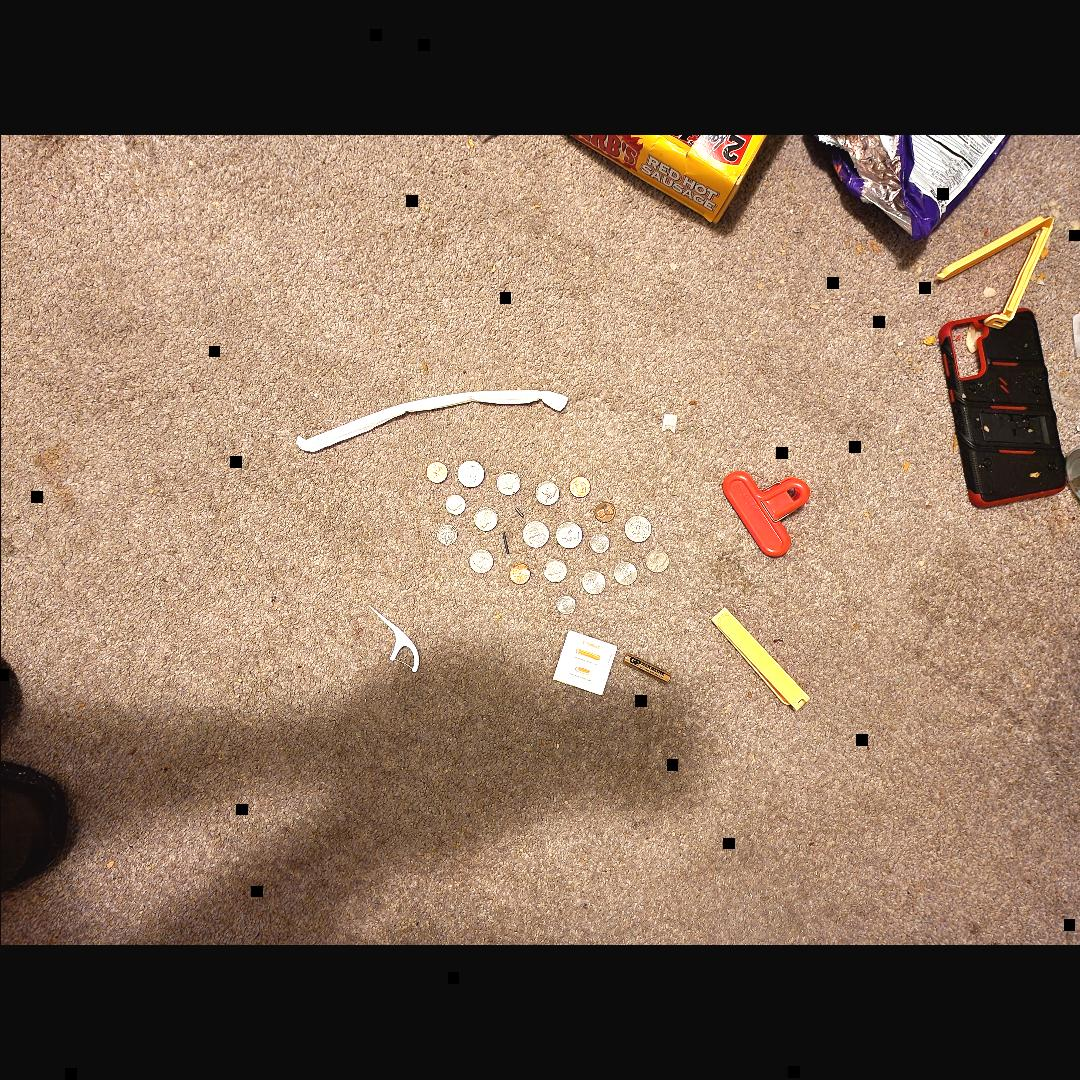Dime: (554, 594, 576, 614), (444, 494, 466, 514), (436, 525, 457, 545), (589, 534, 609, 552)
Nickel: (1, 760, 77, 896), (580, 572, 606, 595), (469, 550, 493, 574), (535, 481, 559, 505), (542, 559, 566, 582), (496, 473, 520, 495), (644, 550, 668, 572), (474, 508, 496, 530), (614, 562, 636, 584)
Penny: (567, 476, 590, 498), (426, 462, 448, 484), (508, 564, 530, 584), (594, 502, 614, 522)
Quarter: (623, 516, 651, 542), (554, 522, 581, 548), (457, 461, 483, 487), (522, 521, 548, 547)
